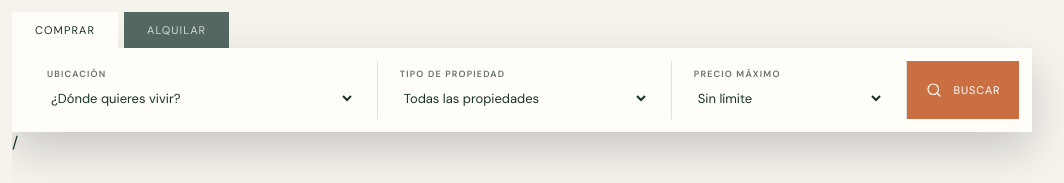
it: SearchPanel › envía una búsqueda de compra con todos los filtros seleccionados
The width and height of the screenshot is (1064, 183).
Select "Madrid" in the dropdown labelled "Ubicación": (201, 98) [47, 85, 355, 112]
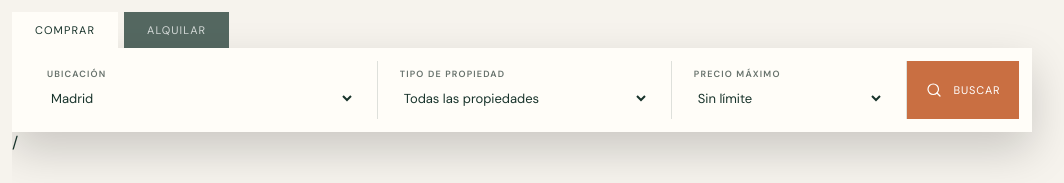
Select "Ático" in the dropdown labelled "Tipo de propiedad": (524, 98) [400, 85, 649, 112]
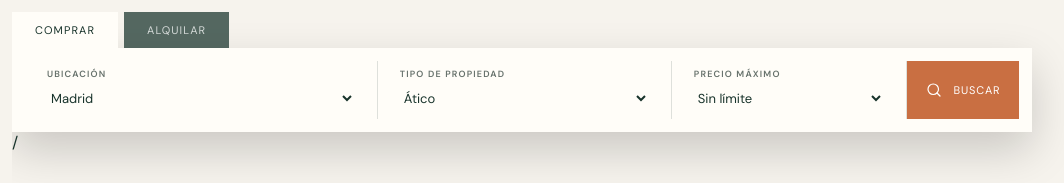
Select "2.000.000 €" in the dropdown labelled "Precio máximo": (789, 98) [694, 85, 884, 112]
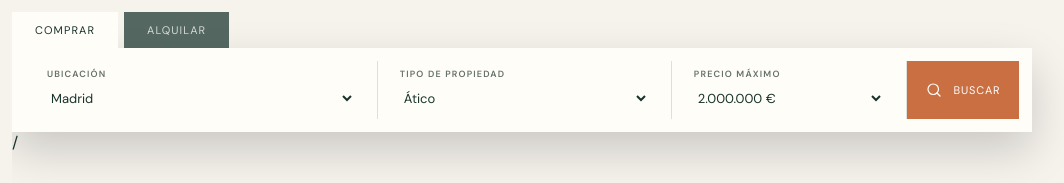
Click the button "Buscar": (963, 90) [907, 61, 1019, 119]
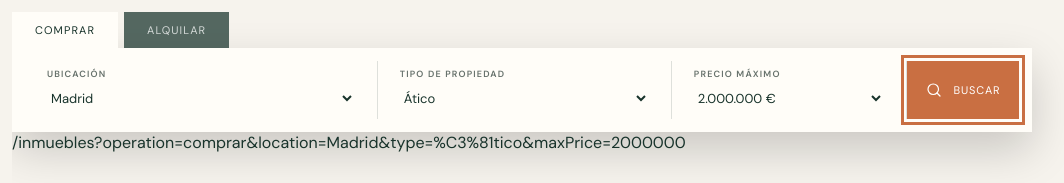
Expected: the text named "Dirección actual" reads "/inmuebles?operation=comprar&location=Madrid&type=%C3%81tico&maxPrice=2000000", [12, 132, 686, 153]
